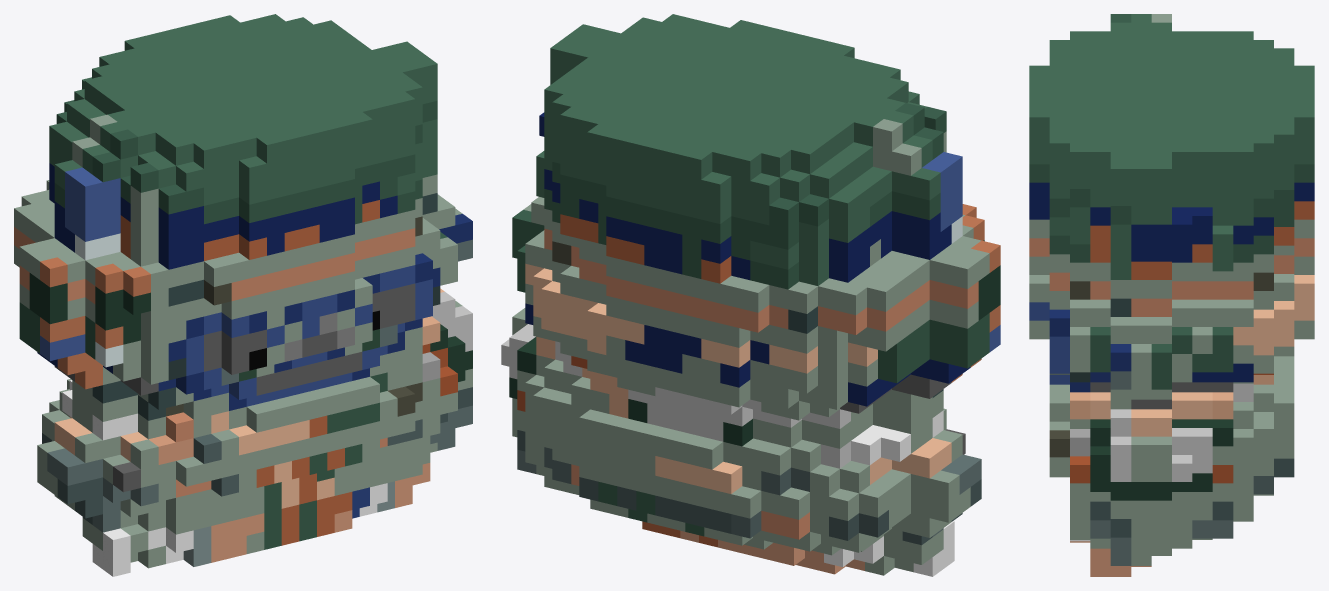
The model's file is Icon_003_02.obj.
The picture shows the model from 3 angles, left to right: view 1: azimuth 30°, elevation 25°; view 2: azimuth 150°, elevation 25°; view 3: azimuth 270°, elevation 25°; orthographic projection. The views are drawn at different scales.
Size of the model in its own units: 2.4 by 2.3 by 1.4.
Materials: 1 (1 with a texture image).
